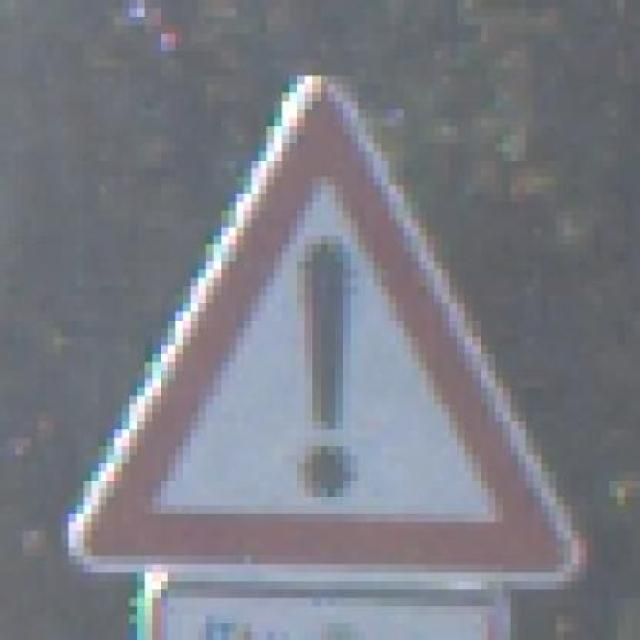Attention Please-: (61, 50, 625, 598)
